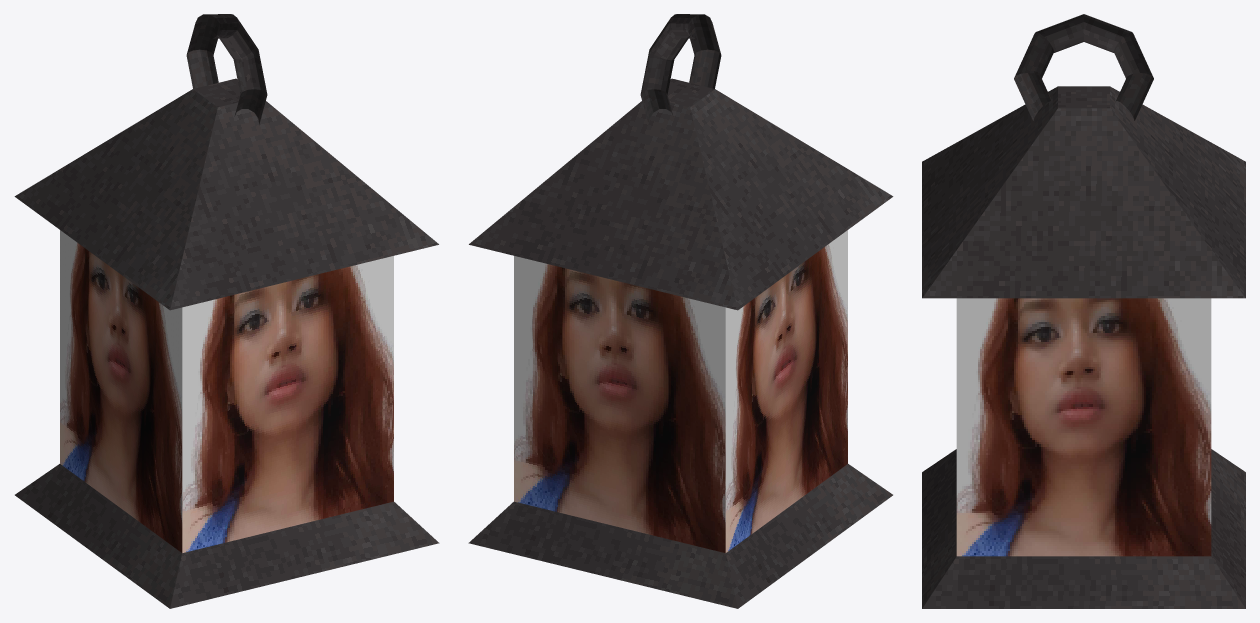
The model's file is joke.glb.
3 views of the same model, side by side, from view 1: azimuth 30°, elevation 25°; view 2: azimuth 150°, elevation 25°; view 3: azimuth 270°, elevation 25° (orthographic). The views are drawn at different scales.
Visible parts, largest first — view 1: Cube; view 2: Cube; view 3: Cube.
Boxes of the visible parts, x1,y1,x2,y2 form: Cube: (14, 14, 439, 608); Cube: (468, 14, 893, 608); Cube: (922, 14, 1245, 608).
Bounding box in the file's own units: 0.1144 × 0.2049 × 0.1144.
1 material, 1 textured.
